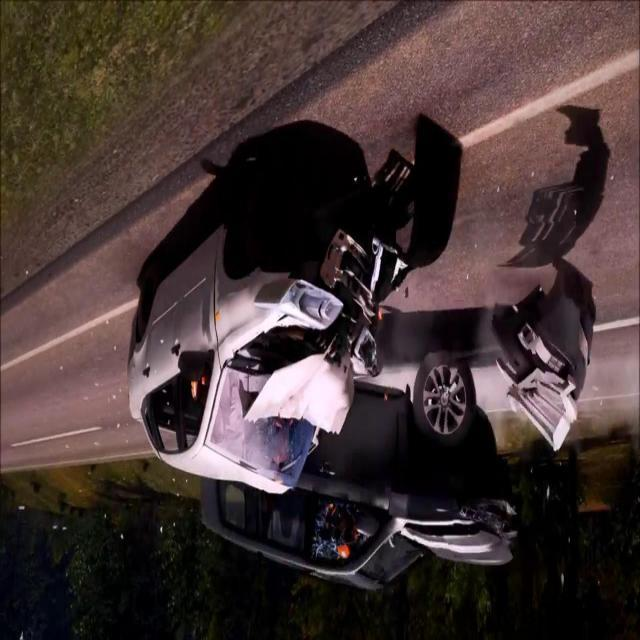severe: (122, 153, 530, 600)
